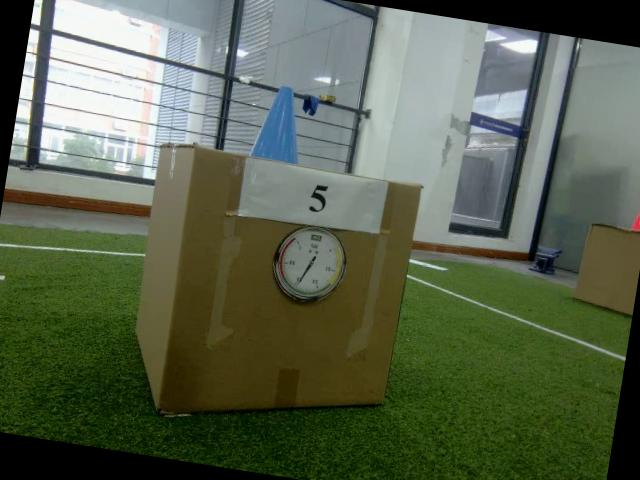5: (307, 183, 329, 216)
Dashboard: (268, 222, 354, 310)
blue_barrel: (250, 81, 310, 167)
ssi: (309, 233, 323, 243)
